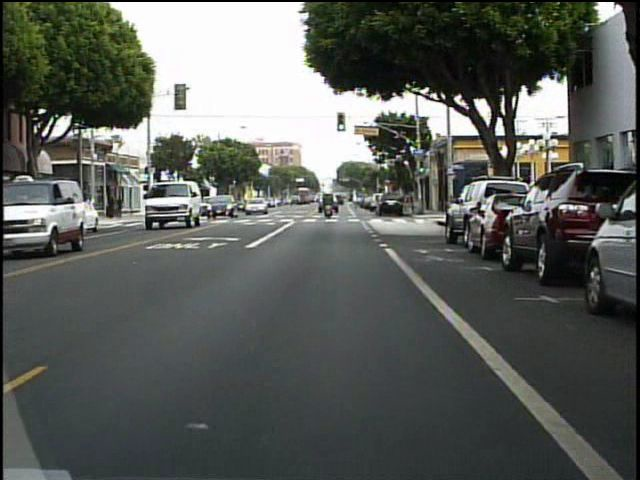person: (322, 189, 338, 219)
